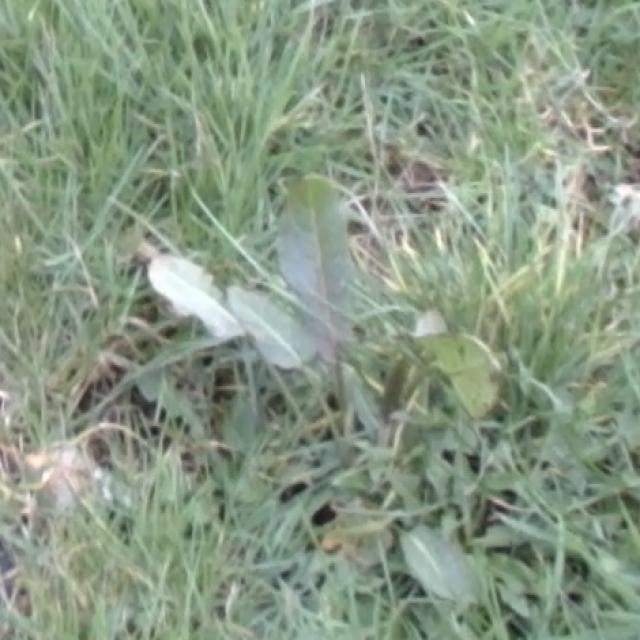organic waste: (94, 152, 553, 494), (363, 474, 509, 588)
